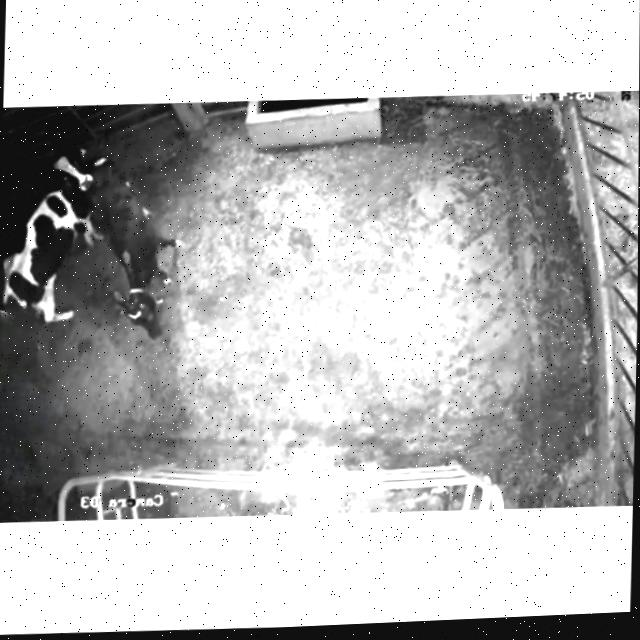propping: (25, 120, 137, 218)
